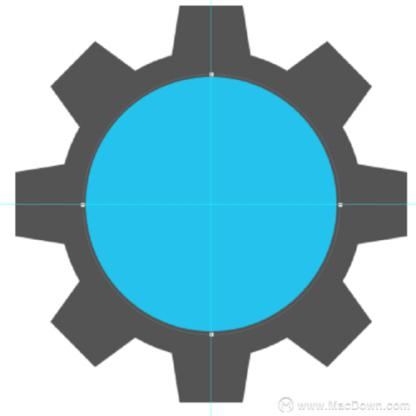FOD: (14, 1, 410, 404)
